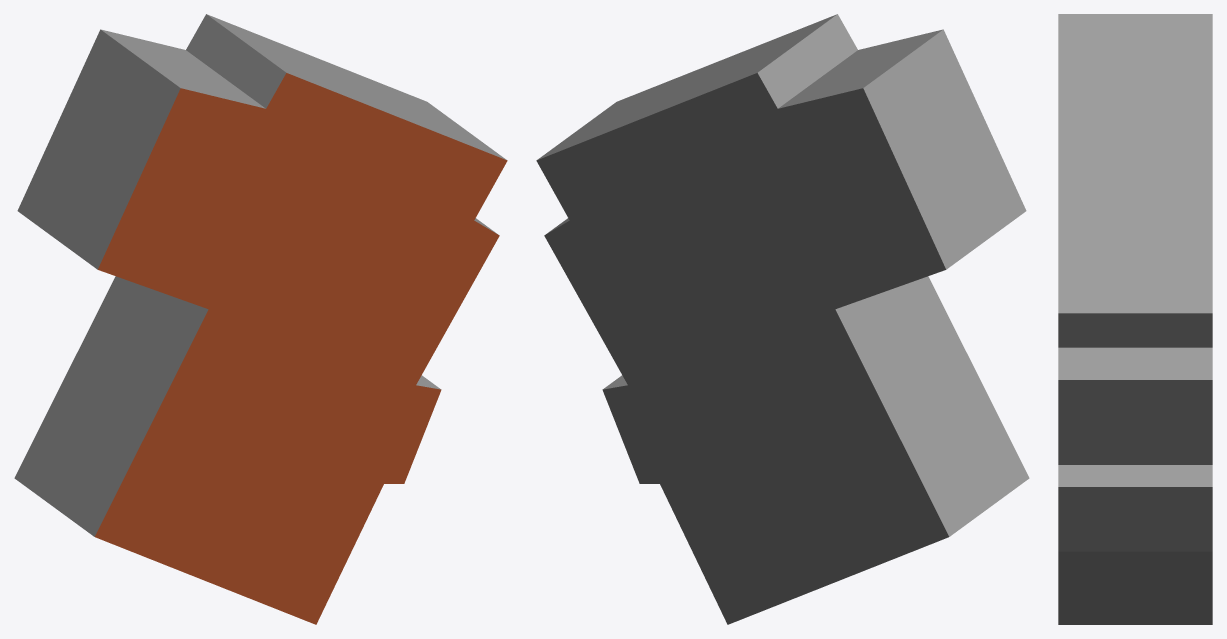
Rendered from construction_2038_assumed_A_Casa_h6m.obj.
3 renders of one model, left to right at view 1: azimuth 30°, elevation 25°; view 2: azimuth 150°, elevation 25°; view 3: azimuth 270°, elevation 25°, orthographic. The views are drawn at different scales.
Visible parts, largest first — view 1: construction_2038_assumed_A_Casa; view 2: construction_2038_assumed_A_Casa; view 3: construction_2038_assumed_A_Casa.
Part boxes in pixels (box(x1,y1,x2,y2)): construction_2038_assumed_A_Casa: box(14, 14, 507, 624); construction_2038_assumed_A_Casa: box(536, 14, 1029, 624); construction_2038_assumed_A_Casa: box(1058, 14, 1212, 624).
Bounding box in the file's own units: 17.82 × 23.49 × 6.
